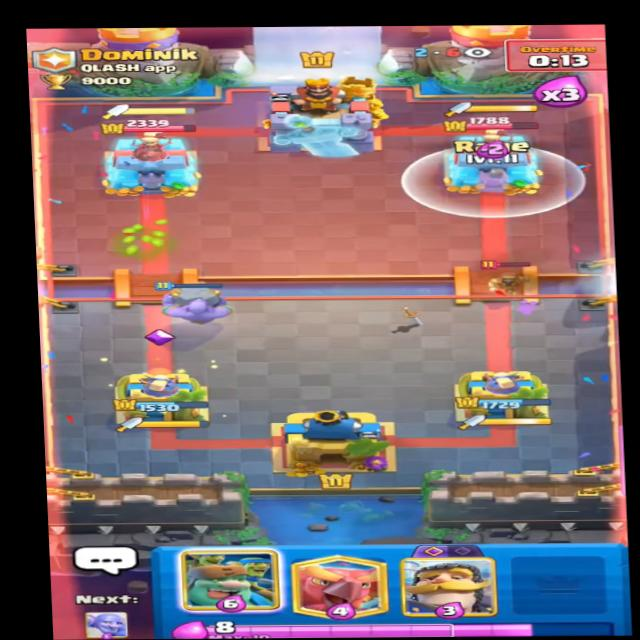wizard: (476, 258, 547, 297)
